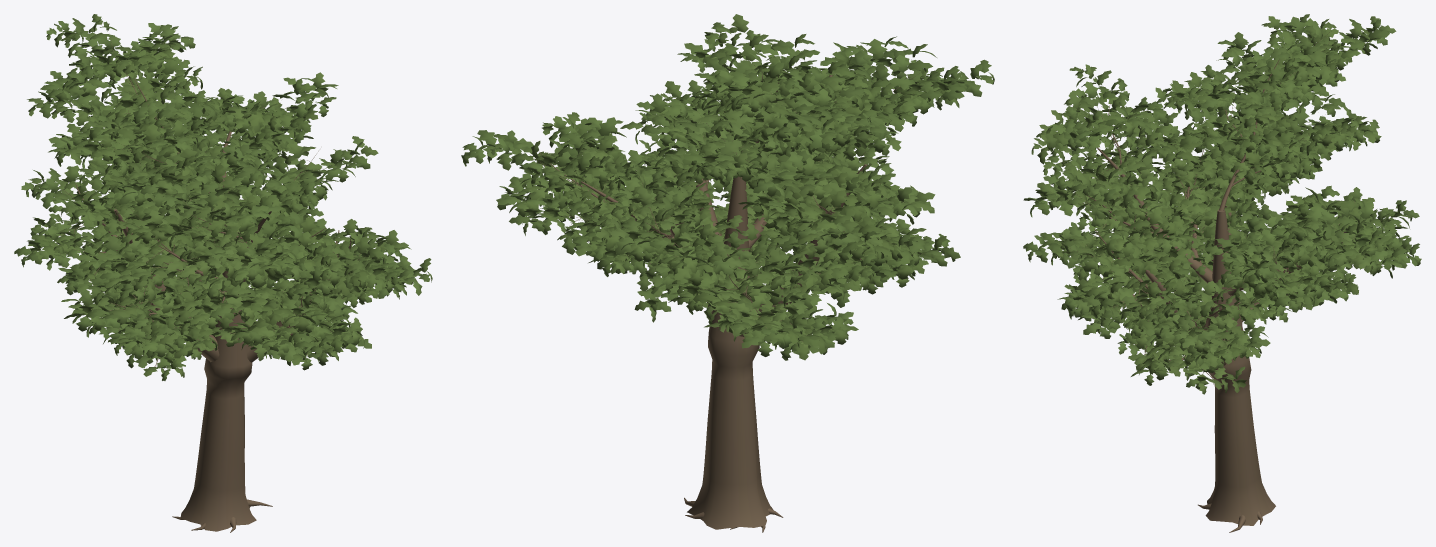
File: corealm_oak_3.glb
3 renders of one model, left to right at view 1: azimuth 30°, elevation 25°; view 2: azimuth 150°, elevation 25°; view 3: azimuth 270°, elevation 25°, orthographic. The views are drawn at different scales.
Parts seen in each view (by area): view 1: corealm_oak_3; view 2: corealm_oak_3; view 3: corealm_oak_3.
Boxes of the visible parts, x1,y1,x2,y2 form: corealm_oak_3: (14, 14, 432, 532); corealm_oak_3: (461, 14, 994, 532); corealm_oak_3: (1023, 14, 1421, 532).
Size of the model in its own units: 5.3 by 6.56 by 5.16.
